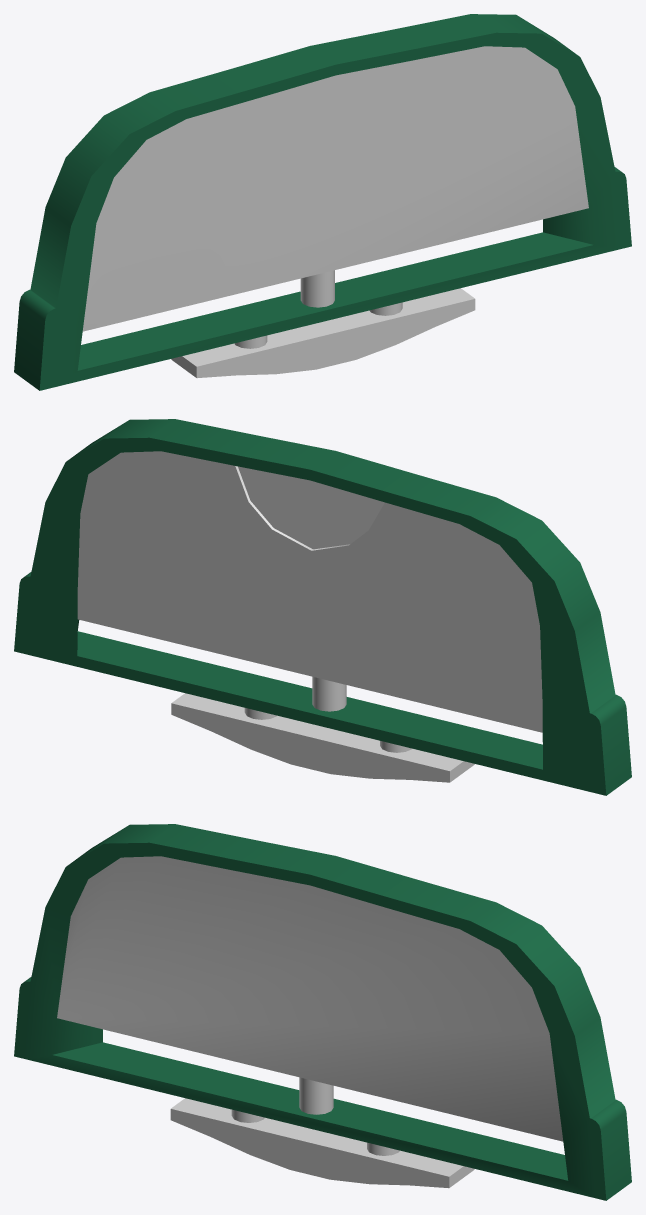
3 renders of one model, top to bottom at view 1: azimuth 30°, elevation 25°; view 2: azimuth 150°, elevation 25°; view 3: azimuth 330°, elevation 25°, orthographic.
Parts seen in each view (by area): view 1: Cube; view 2: Cube; view 3: Cube.
Part boxes in pixels (x1,y1,x2,y2): Cube: [14, 14, 631, 390]; Cube: [14, 419, 631, 795]; Cube: [14, 824, 631, 1200].
Bounding box in the file's own units: 13.06 × 6.32 × 0.987.
